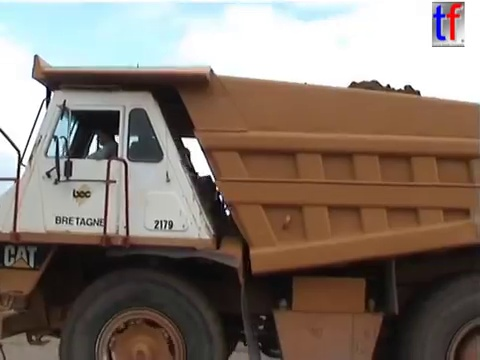truck: (1, 50, 480, 360)
